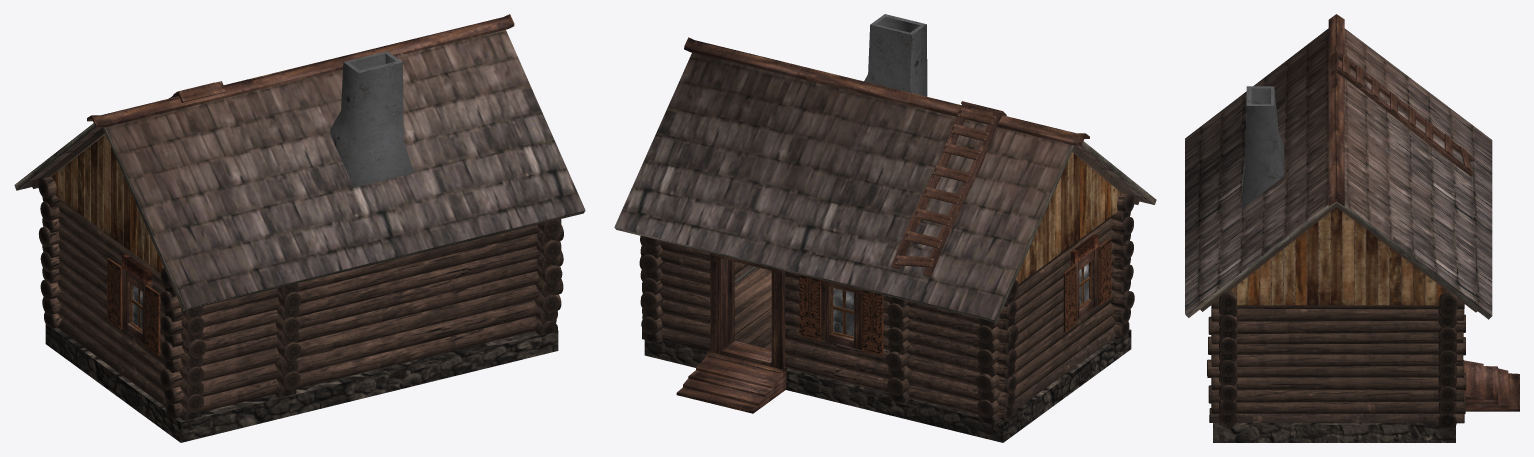
The model's file is wooden_house.obj.
3 views of the same model, side by side, from view 1: azimuth 30°, elevation 25°; view 2: azimuth 150°, elevation 25°; view 3: azimuth 270°, elevation 25° (orthographic). The views are drawn at different scales.
Parts seen in each view (by area): view 1: Cylinder091:3_Cylinder091:3_0.002, Cylinder131_Cylinder131_0, Box017_Box017_0, Cylinder091:2_Cylinder091:2_0, Cylinder091:3_Cylinder091:3_0.017, Cylinder091:3_Cylinder091:3_0.006, Cylinder091:1_Cylinder091:1_0.005, Cylinder091:3_Cylinder091:3_0.008, Cylinder121:1_Cylinder121:1_0, Cylinder009:2_Cylinder009:2_0, Cylinder091:1_Cylinder091:1_0, Cylinder091:3_Cylinder091:3_0.012 (+4 smaller); view 2: Cylinder091:3_Cylinder091:3_0.002, Cylinder091:3_Cylinder091:3_0.008, Cylinder091:2_Cylinder091:2_0, Box017_Box017_0, Cylinder091:3_Cylinder091:3_0.006, Cylinder091:1_Cylinder091:1_0.005, Cylinder091:1_Cylinder091:1_0.001, Cylinder001_Cylinder001_0, Cylinder091:3_Cylinder091:3_0.009, Cylinder091:3_Cylinder091:3_0.017, Cylinder091:2_Cylinder091:2_0.006, Cylinder091:3_Cylinder091:3_0 (+14 smaller); view 3: Cylinder091:3_Cylinder091:3_0.002, Cylinder009:2_Cylinder009:2_0, Cylinder091:3_Cylinder091:3_0.007, Box017_Box017_0, Cylinder091:3_Cylinder091:3_0.017, Cylinder091:1_Cylinder091:1_0.005, Cylinder091:3_Cylinder091:3_0.009, Cylinder009:1_Cylinder009:1_0, Cylinder131_Cylinder131_0, Cylinder091:3_Cylinder091:3_0.019, Cylinder001_Cylinder001_0, Cylinder091:2_Cylinder091:2_0.006 (+3 smaller).
Boxes of the visible parts, <box> form: Cylinder091:3_Cylinder091:3_0.002: <box>14,29,585,310</box>; Cylinder131_Cylinder131_0: <box>160,219,563,419</box>; Box017_Box017_0: <box>45,324,558,442</box>; Cylinder091:2_Cylinder091:2_0: <box>57,199,206,412</box>; Cylinder091:3_Cylinder091:3_0.017: <box>330,51,413,187</box>; Cylinder091:3_Cylinder091:3_0.006: <box>51,134,163,272</box>; Cylinder091:1_Cylinder091:1_0.005: <box>87,14,514,127</box>; Cylinder091:3_Cylinder091:3_0.008: <box>38,177,172,328</box>; Cylinder121:1_Cylinder121:1_0: <box>275,283,301,390</box>; Cylinder009:2_Cylinder009:2_0: <box>534,219,562,323</box>; Cylinder091:1_Cylinder091:1_0: <box>57,319,201,420</box>; Cylinder091:3_Cylinder091:3_0.012: <box>107,258,122,329</box>; Cylinder091:3_Cylinder091:3_0.002: <box>614,52,1156,322</box>; Cylinder091:3_Cylinder091:3_0.008: <box>785,193,1134,421</box>; Cylinder091:2_Cylinder091:2_0: <box>975,215,1115,417</box>; Box017_Box017_0: <box>644,329,1131,442</box>; Cylinder091:3_Cylinder091:3_0.006: <box>1015,152,1121,284</box>; Cylinder091:1_Cylinder091:1_0.005: <box>684,37,1089,145</box>; Cylinder091:1_Cylinder091:1_0.001: <box>710,253,786,369</box>; Cylinder001_Cylinder001_0: <box>639,236,710,339</box>; Cylinder091:3_Cylinder091:3_0.009: <box>676,350,786,413</box>; Cylinder091:3_Cylinder091:3_0.017: <box>864,14,927,96</box>; Cylinder091:2_Cylinder091:2_0.006: <box>894,101,1006,267</box>; Cylinder091:3_Cylinder091:3_0: <box>734,267,771,349</box>; Cylinder091:3_Cylinder091:3_0.002: <box>1185,28,1492,319</box>; Cylinder009:2_Cylinder009:2_0: <box>1207,292,1466,413</box>; Cylinder091:3_Cylinder091:3_0.007: <box>1230,207,1446,305</box>; Box017_Box017_0: <box>1213,423,1455,442</box>; Cylinder091:3_Cylinder091:3_0.017: <box>1242,86,1283,208</box>; Cylinder091:1_Cylinder091:1_0.005: <box>1328,14,1344,206</box>; Cylinder091:3_Cylinder091:3_0.009: <box>1464,360,1519,411</box>; Cylinder009:1_Cylinder009:1_0: <box>1209,408,1464,423</box>; Cylinder131_Cylinder131_0: <box>1219,305,1237,426</box>; Cylinder091:3_Cylinder091:3_0.019: <box>1337,52,1472,176</box>; Cylinder001_Cylinder001_0: <box>1438,327,1456,414</box>; Cylinder091:2_Cylinder091:2_0.006: <box>1329,50,1471,171</box>.
Size of the model in its own units: 583 by 410 by 449.
Materials: 44 (43 with a texture image).
